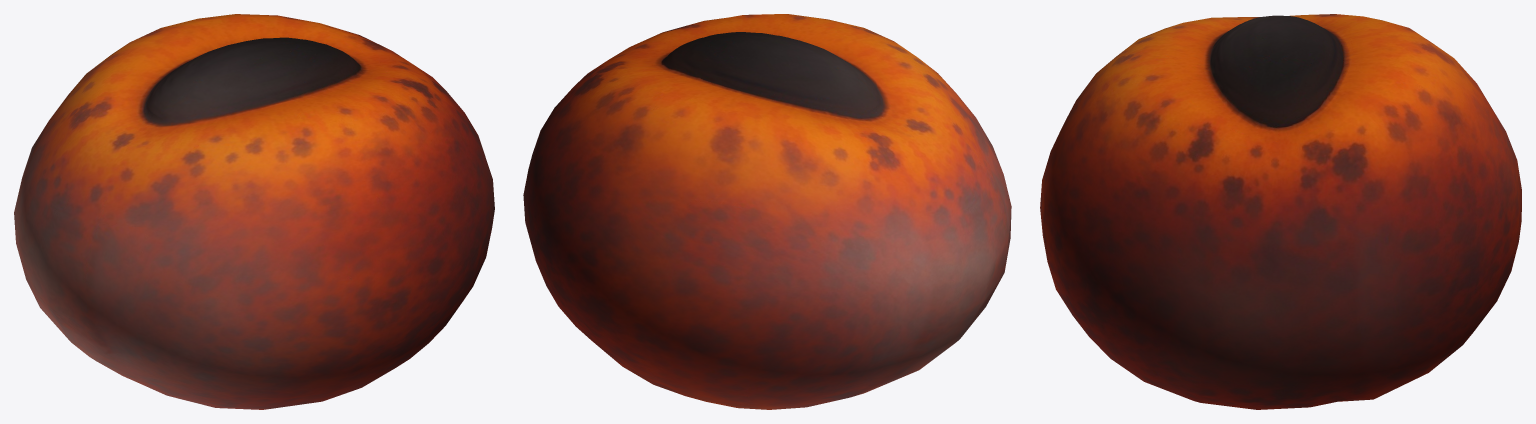
Rendered from olho_salamandra.fbx.
3 renders of one model, left to right at view 1: azimuth 30°, elevation 25°; view 2: azimuth 150°, elevation 25°; view 3: azimuth 270°, elevation 25°, orthographic. The views are drawn at different scales.
Parts seen in each view (by area): view 1: olho; view 2: olho; view 3: olho.
Part boxes in pixels (bbox=[...]): olho: bbox=[14, 14, 494, 409]; olho: bbox=[523, 14, 1011, 409]; olho: bbox=[1040, 14, 1521, 409].
Size of the model in its own units: 42.55 by 30.85 by 39.48.
